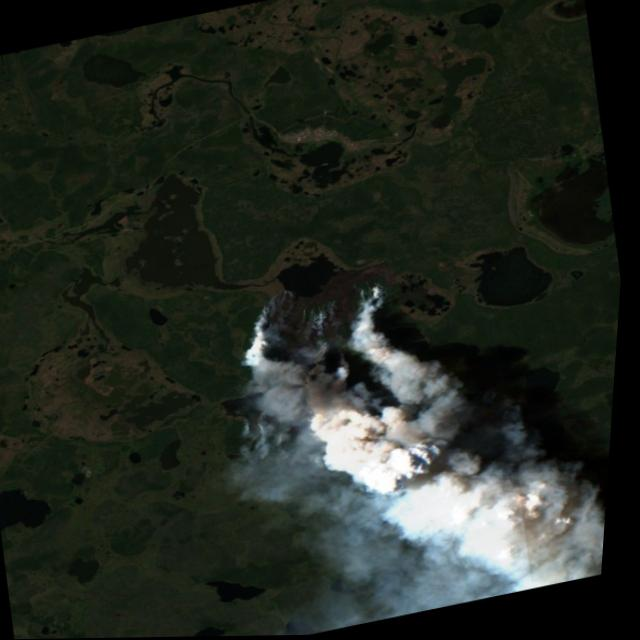fire: (217, 258, 431, 470)
